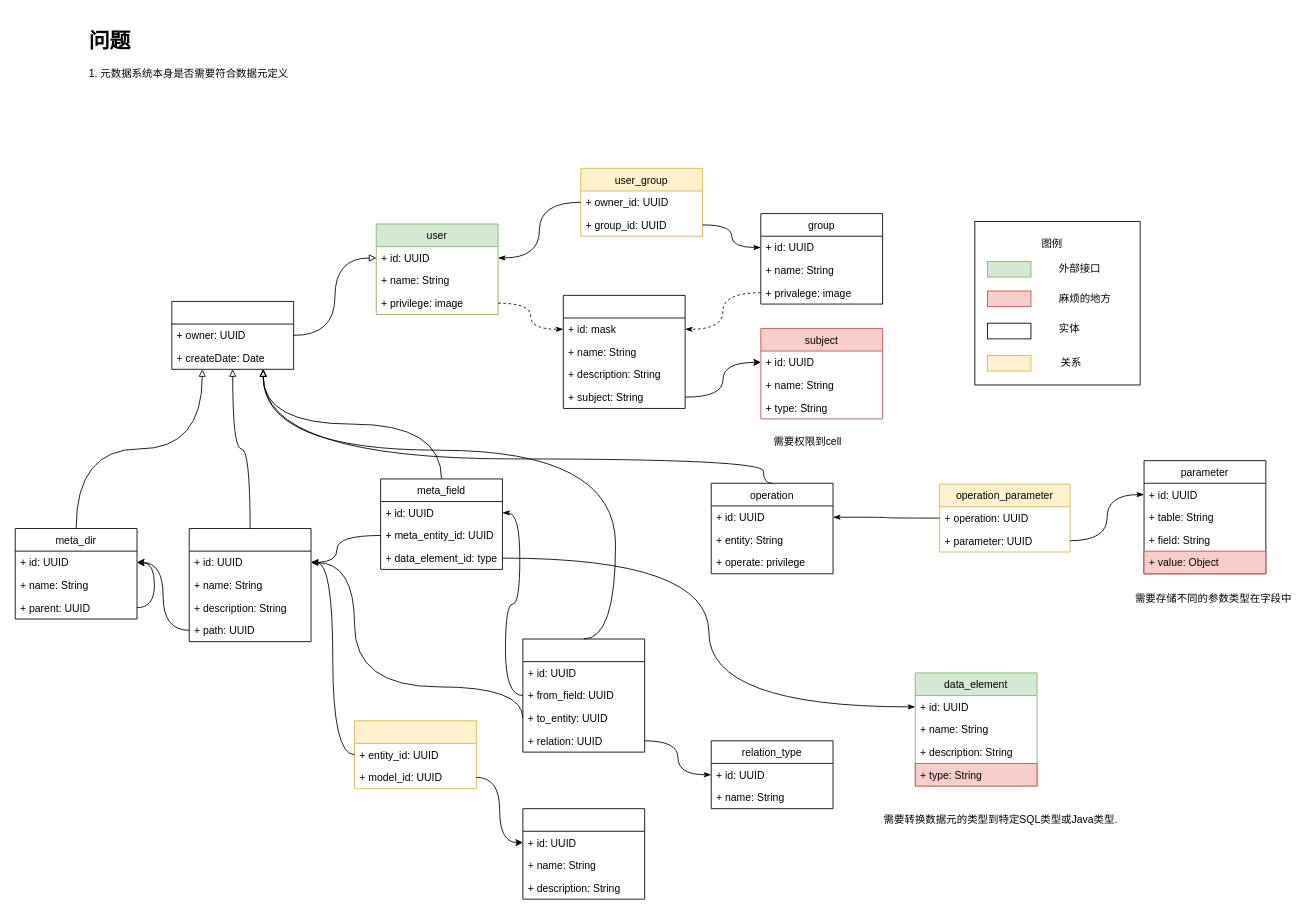
This 1309x916 diagram has some shape labels left out. Here are the shapes that lost their labels. From the top down, the box of each, then its label:
(171, 301, 294, 369): artifact
(562, 294, 685, 408): privilege
(188, 528, 311, 642): meta_entity
(522, 638, 645, 752): meta_relation
(354, 720, 476, 789): meta_entity__model
(522, 808, 645, 899): meta_model
